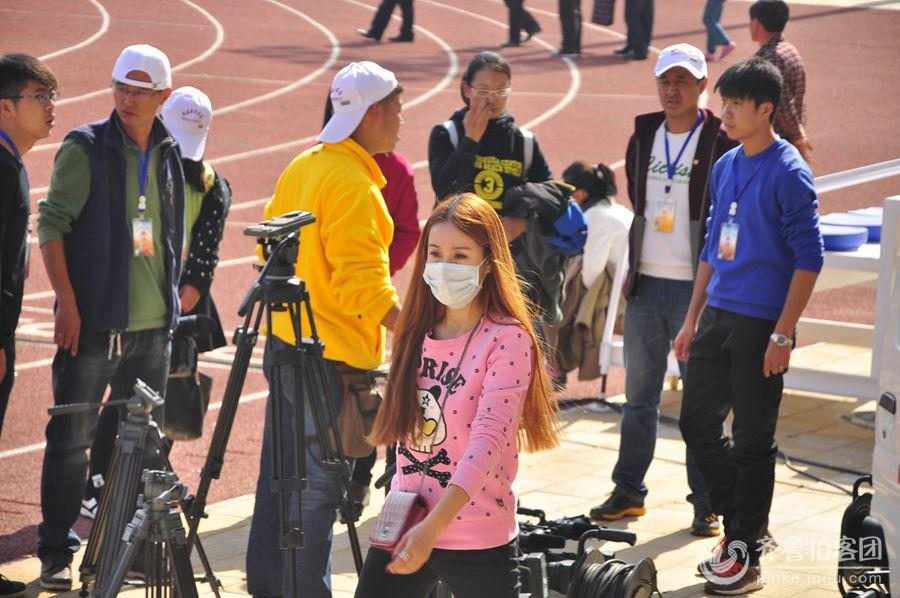NONE: (13, 86, 59, 140), (721, 95, 763, 142), (115, 81, 155, 123), (375, 105, 406, 154), (659, 75, 695, 114), (473, 82, 510, 119)
OK: (423, 240, 489, 306)
